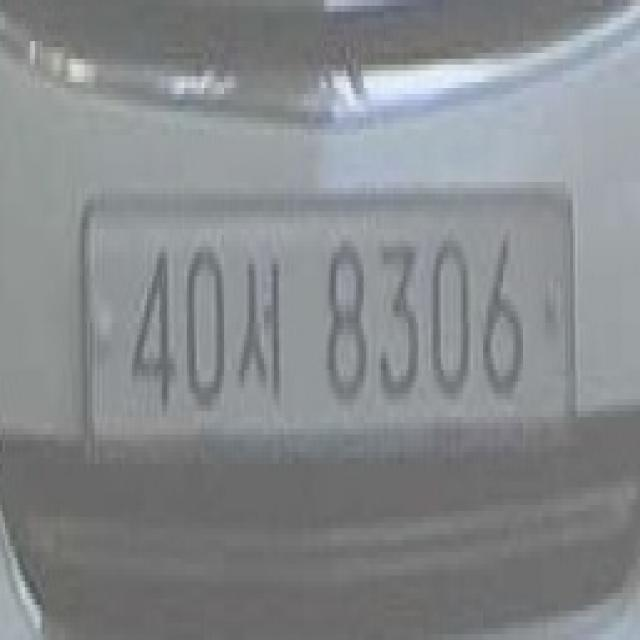0: (426, 235, 473, 393), (184, 247, 224, 405)
3: (374, 235, 418, 399)
4: (127, 247, 177, 405)
6: (478, 229, 528, 411)
8: (324, 235, 368, 411)
license_plate: (77, 188, 578, 464)
seo: (236, 258, 284, 405)
